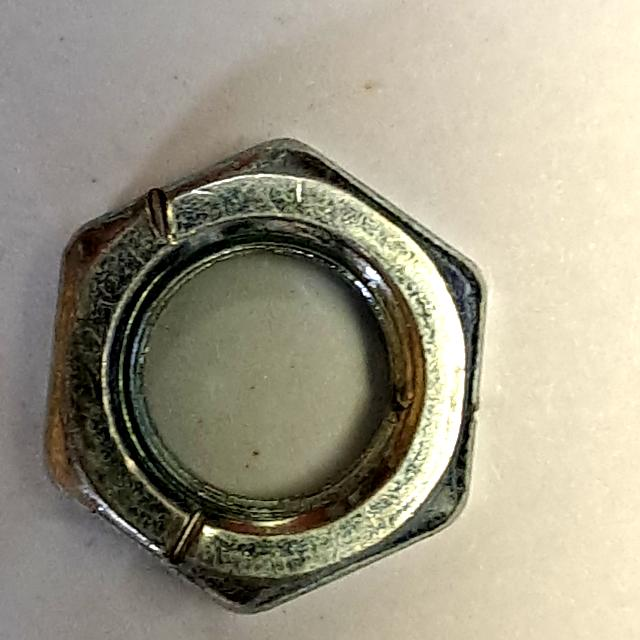Scratches: (25, 124, 508, 631)
